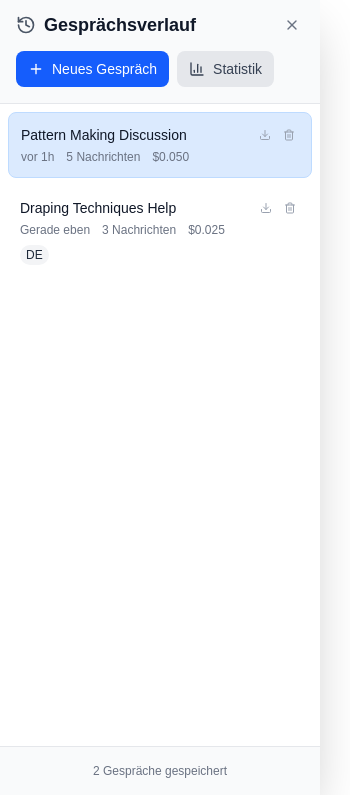
Test: ConversationHistory › Localization › should show German stats labels
What coordinates should you click on to do the following:
click the button "Statistik"
I would click on:
 (226, 69)
Its box is [177,51,274,87].
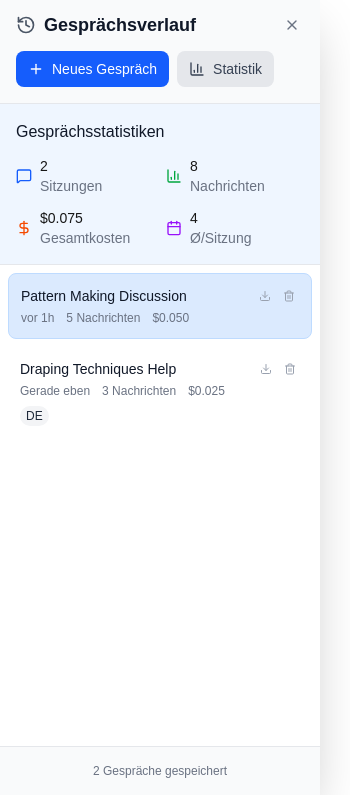
Check: the heading "Gesprächsstatistiken" is shown, box [16,123,164,140]
Check: the text "Sitzungen" is shown, box [40,176,102,196]
Check: the text "Nachrichten" is shown, box [190,176,265,196]
